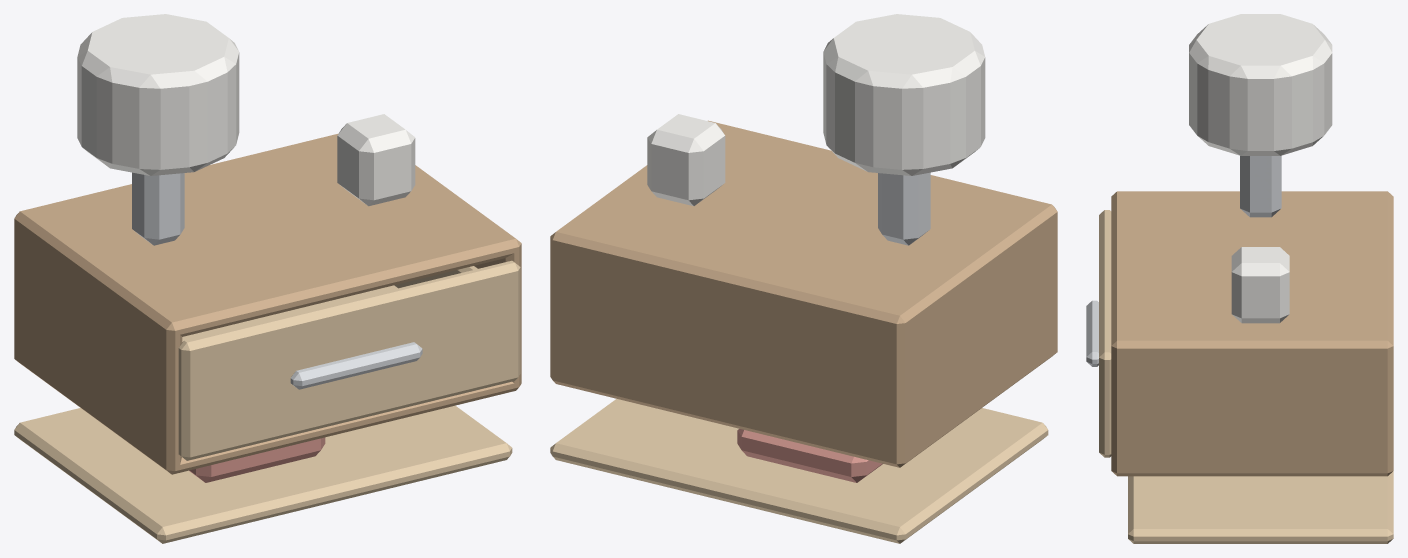
Rendered from FloatingNightstand.glb.
3 renders of one model, left to right at view 1: azimuth 30°, elevation 25°; view 2: azimuth 150°, elevation 25°; view 3: azimuth 270°, elevation 25°, orthographic. The views are drawn at different scales.
Parts seen in each view (by area): view 1: FloatingNightstand_Body, FloatingNightstand_Drawer; view 2: FloatingNightstand_Body; view 3: FloatingNightstand_Body, FloatingNightstand_Drawer.
Part boxes in pixels (x1,y1,x2,y2): FloatingNightstand_Body: [14, 14, 521, 543]; FloatingNightstand_Drawer: [178, 260, 520, 460]; FloatingNightstand_Body: [550, 14, 1057, 543]; FloatingNightstand_Body: [1111, 14, 1393, 543]; FloatingNightstand_Drawer: [1086, 210, 1111, 457].
Size of the model in its own units: 0.44 by 0.51 by 0.37.
